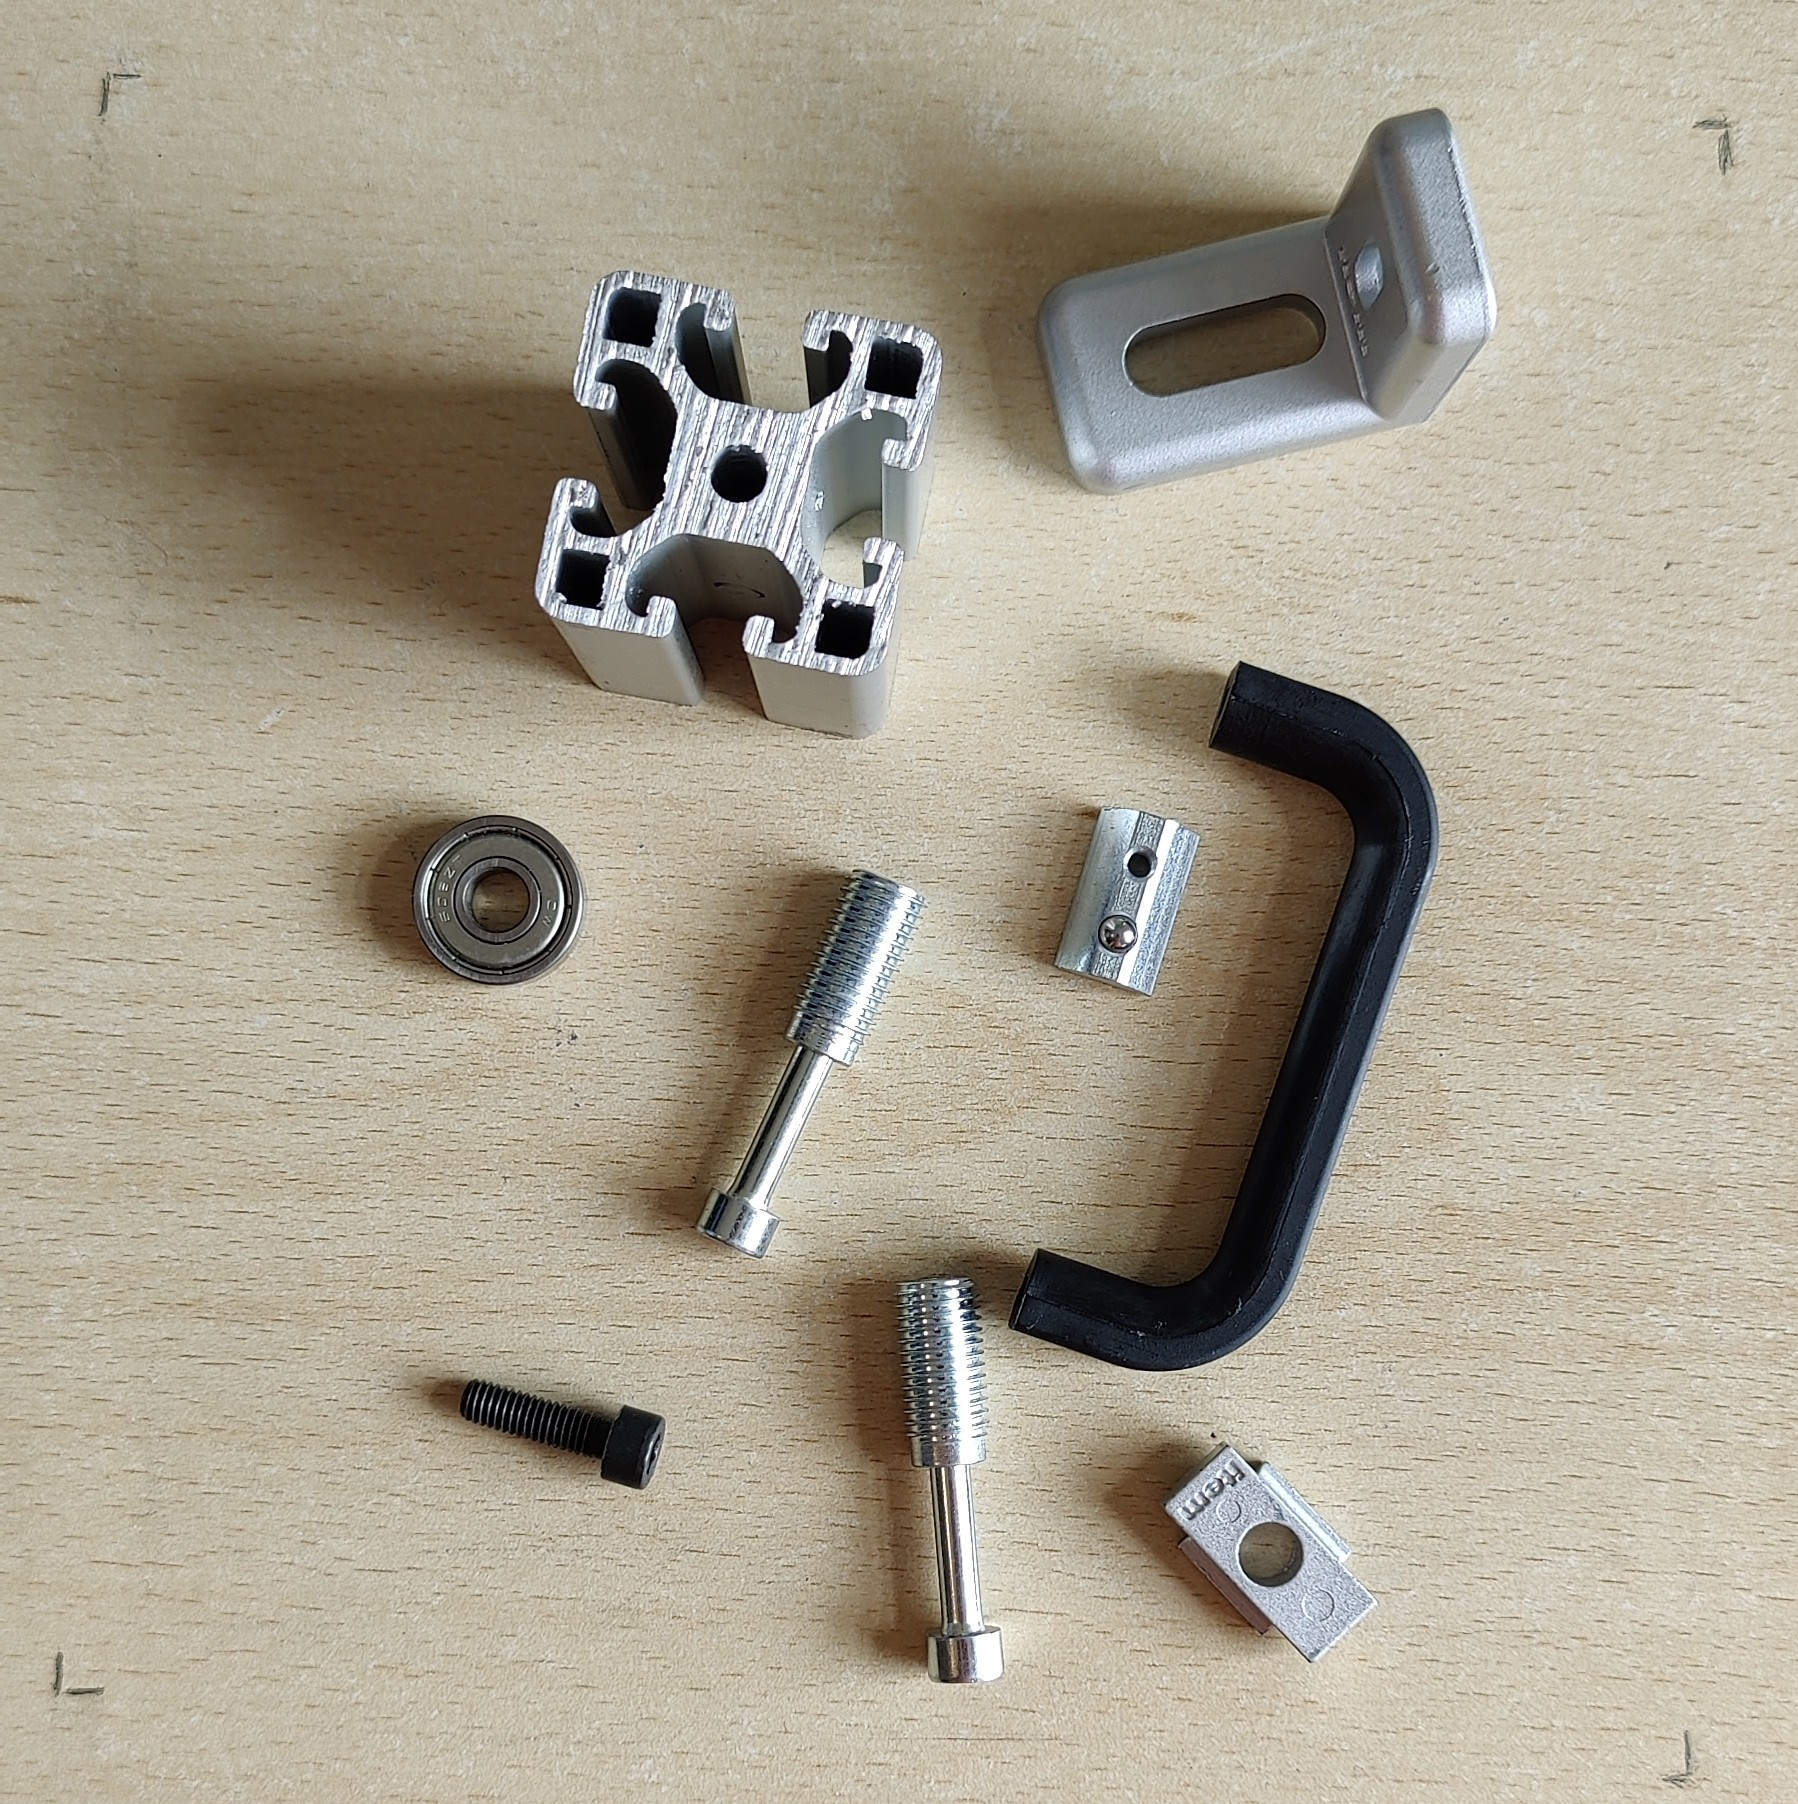Aluminium Extension: (530, 267, 943, 742)
Ball Bearing: (410, 815, 585, 988)
Multiwinkel: (1032, 105, 1497, 497)
Pull Handle: (1009, 657, 1441, 1373)
Shoulder Socket Head Cap Screw: (692, 867, 929, 1259), (889, 1271, 1009, 1689)
Socket Head Cap Screw: (456, 1378, 668, 1493)
T Nut Square: (1161, 1439, 1381, 1666)
T Spring Nut: (1050, 805, 1202, 1001)
